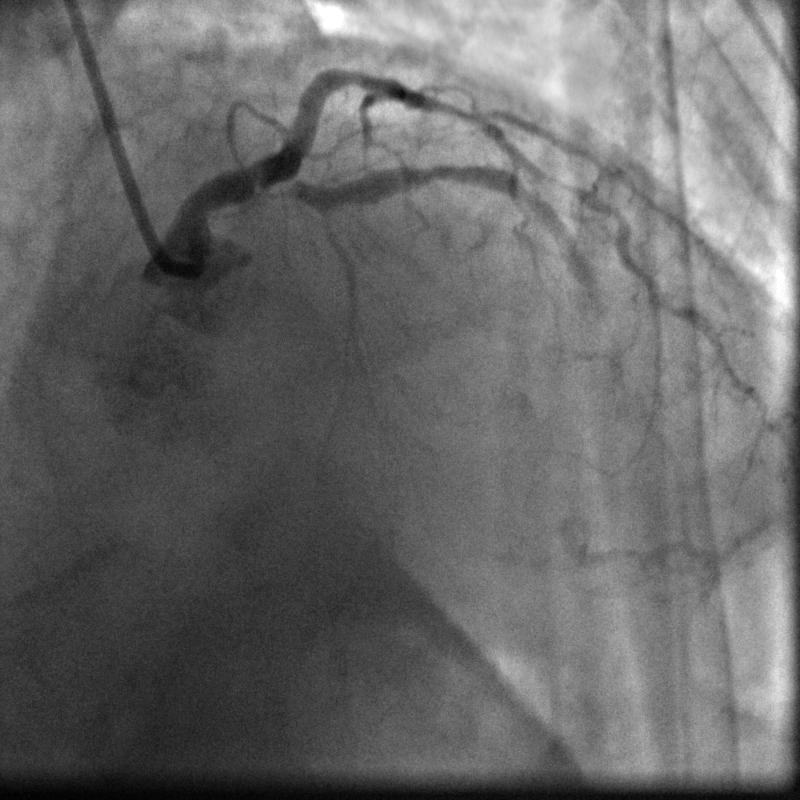Stenosis: (263, 166, 321, 204)
